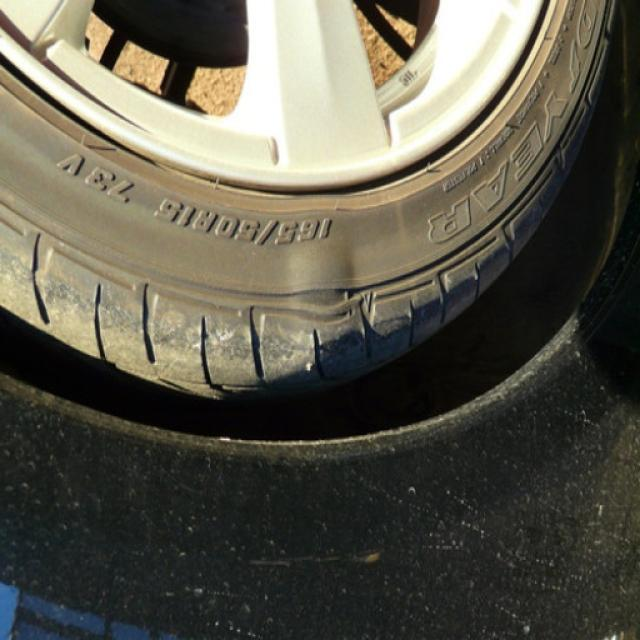Bulge: (281, 219, 360, 332)
